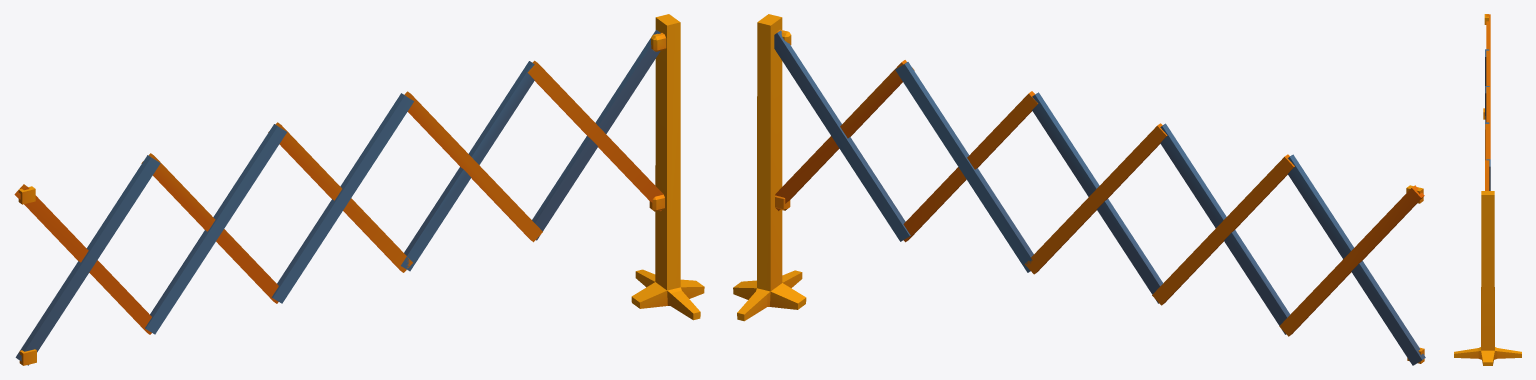
The model's file is MetalBarrier_Half.fbx.
3 renders of one model, left to right at view 1: azimuth 30°, elevation 25°; view 2: azimuth 150°, elevation 25°; view 3: azimuth 270°, elevation 25°, orthographic. The views are drawn at different scales.
Visible parts, largest first — view 1: MetalBarrier_Half; view 2: MetalBarrier_Half; view 3: MetalBarrier_Half.
Part boxes in pixels (left/top/right/bottom): MetalBarrier_Half: left=14, top=14, right=704, bottom=365; MetalBarrier_Half: left=733, top=14, right=1425, bottom=365; MetalBarrier_Half: left=1454, top=14, right=1521, bottom=365.
Size of the model in its own units: 348 by 137 by 50.88.
